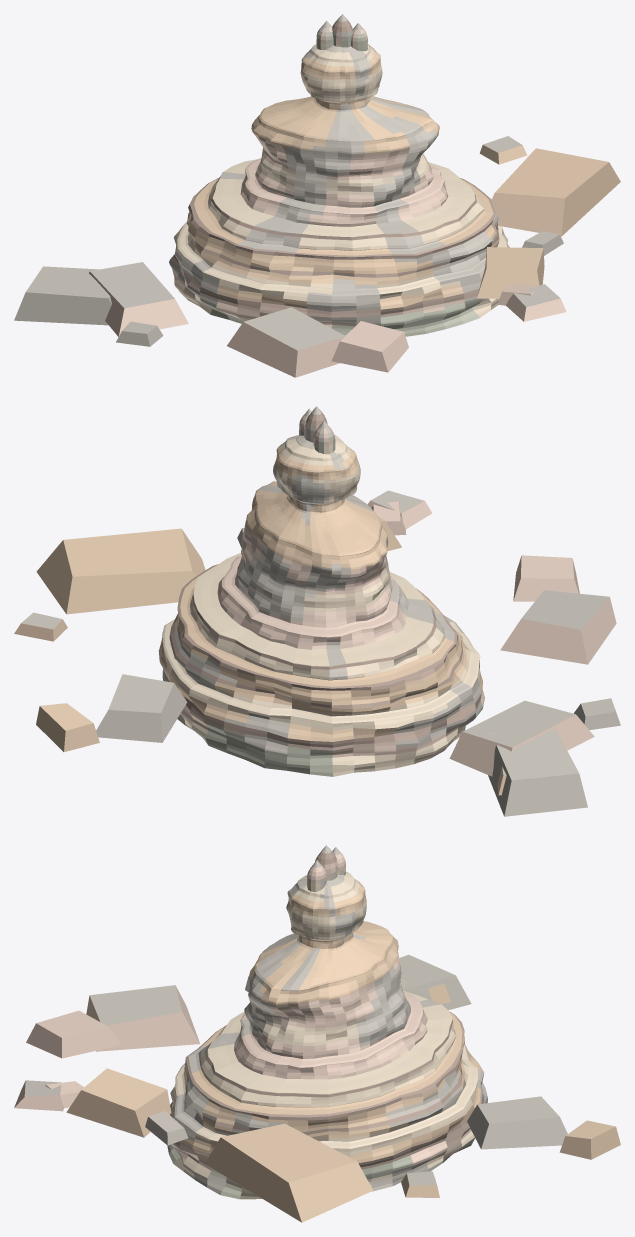
The model's file is isalo.glb.
3 views of the same model, one above another, from view 1: azimuth 30°, elevation 25°; view 2: azimuth 150°, elevation 25°; view 3: azimuth 270°, elevation 25° (orthographic). The views are drawn at different scales.
Parts seen in each view (by area): view 1: isalo; view 2: isalo; view 3: isalo.
Boxes of the visible parts, x1,y1,x2,y2 form: isalo: [14, 14, 620, 377]; isalo: [14, 406, 620, 816]; isalo: [14, 845, 620, 1222].
Size of the model in its own units: 25.15 by 11.58 by 22.38.
